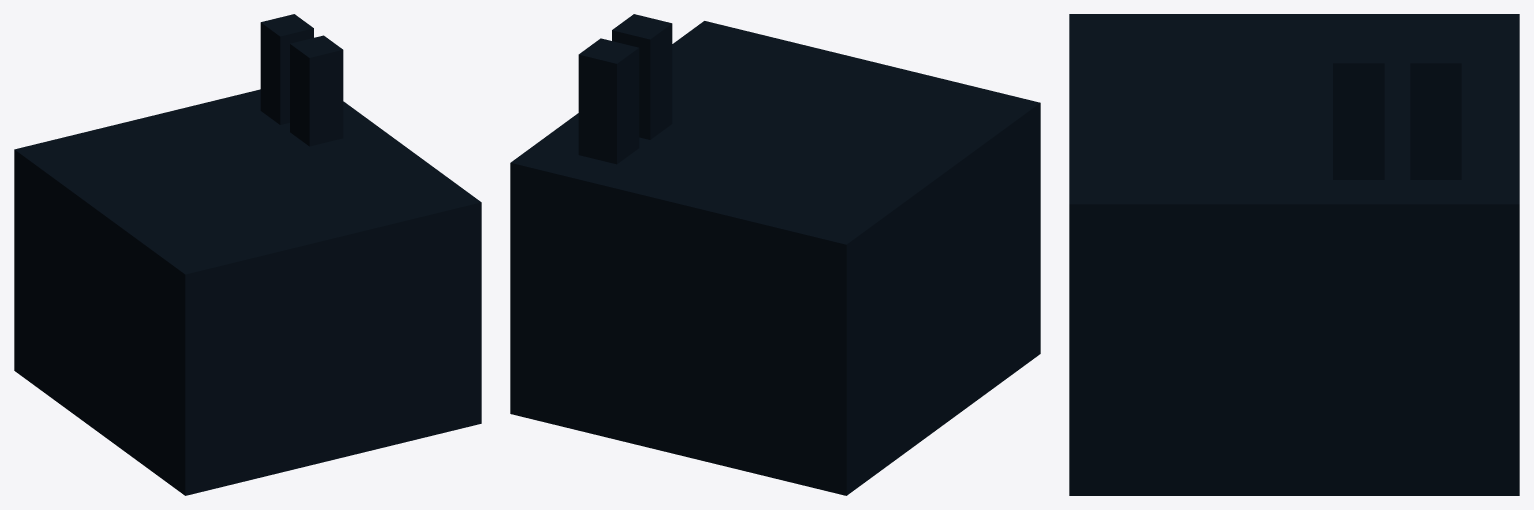
File: Factory.FBX
3 renders of one model, left to right at view 1: azimuth 30°, elevation 25°; view 2: azimuth 150°, elevation 25°; view 3: azimuth 270°, elevation 25°, orthographic. The views are drawn at different scales.
Visible parts, largest first — view 1: Factory; view 2: Factory; view 3: Factory.
Boxes of the visible parts, x1,y1,x2,y2 form: Factory: (14, 14, 481, 495); Factory: (510, 14, 1040, 495); Factory: (1069, 14, 1519, 495).
Bounding box in the file's own units: 700 × 700 × 700.
